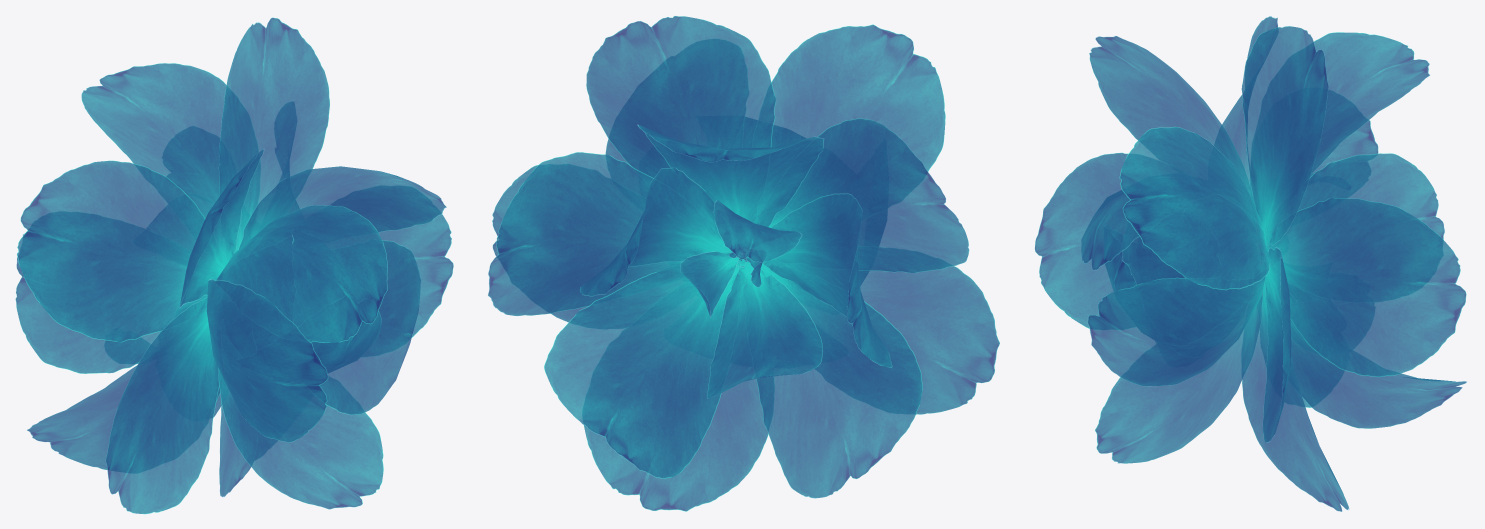
File: flower-green.glb
3 views of the same model, side by side, from view 1: azimuth 30°, elevation 25°; view 2: azimuth 150°, elevation 25°; view 3: azimuth 270°, elevation 25° (orthographic). The views are drawn at different scales.
Parts seen in each view (by area): view 1: timeshift4; view 2: timeshift4; view 3: timeshift4.
Part boxes in pixels (x1=…): timeshift4: x1=15, y1=17, x2=453, y2=514; timeshift4: x1=488, y1=16, x2=999, y2=511; timeshift4: x1=1034, y1=16, x2=1466, y2=511.
Size of the model in its own units: 6.04 by 6.09 by 4.99.
1 material, 1 textured.
